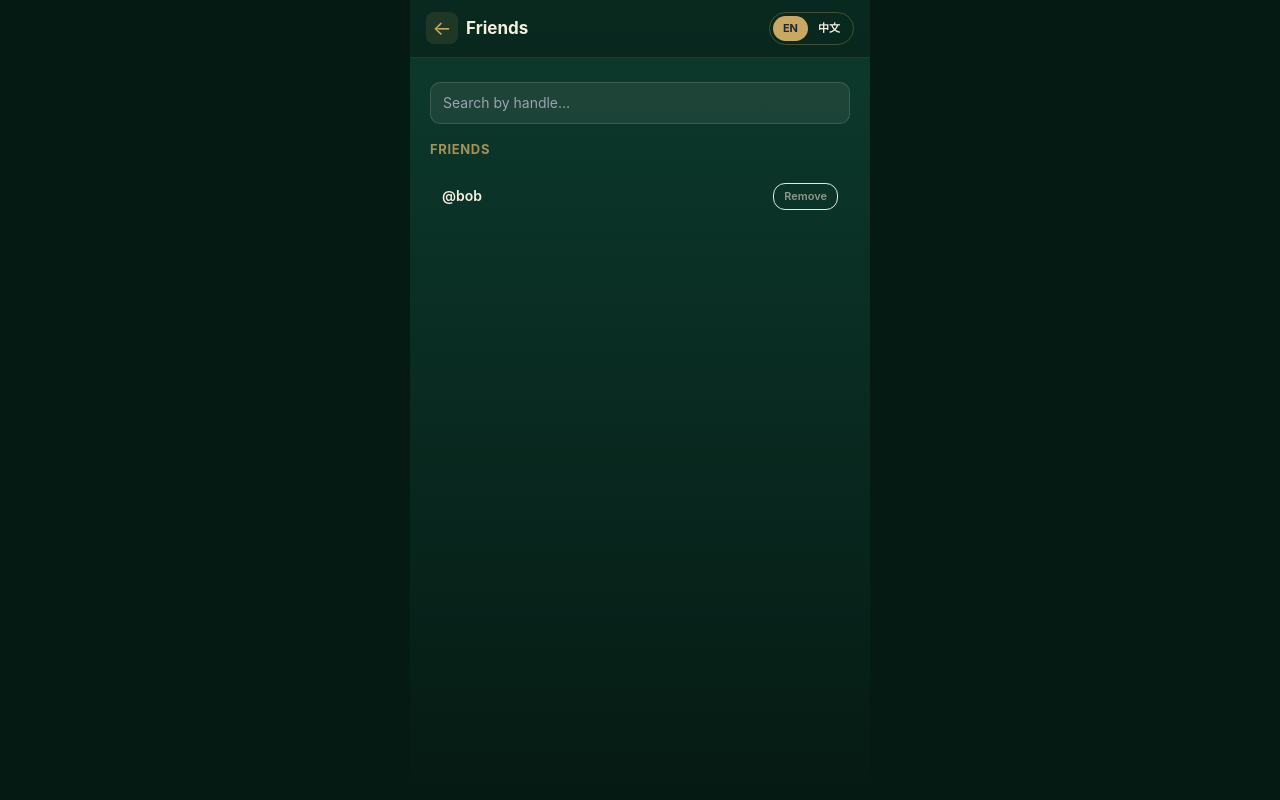
Test: FriendsPage — search › shows search results when query is entered
The width and height of the screenshot is (1280, 800).
Type "eve" into the search field with placeholder "Search by handle…" at (640, 102), box [430,82,850,124]
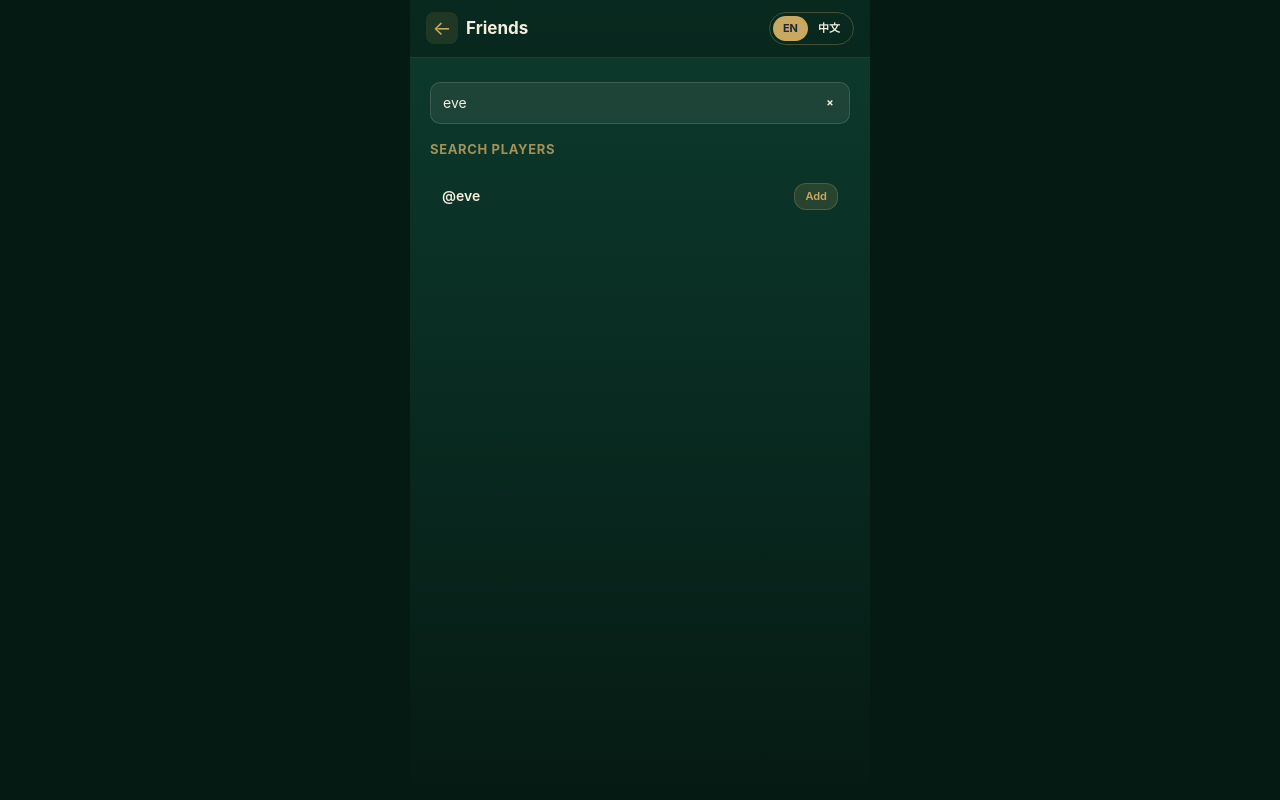
Now the text "@eve" is shown, box [442,187,480,204]
Now the button "Add" is shown, box [794,183,838,210]
